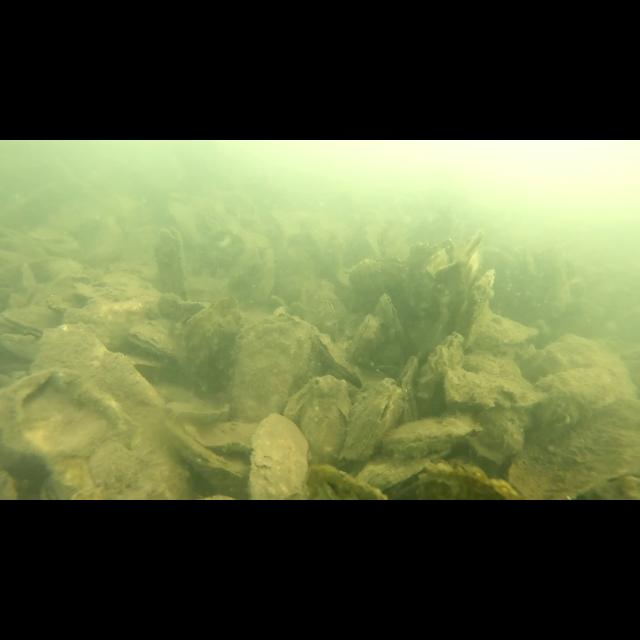Oyster-Closed: (0, 368, 154, 500), (34, 325, 166, 431), (508, 398, 640, 500), (227, 316, 311, 434), (180, 294, 242, 401), (286, 376, 352, 468), (165, 424, 248, 486), (532, 368, 618, 427), (250, 414, 308, 501), (382, 414, 482, 458), (350, 256, 410, 320), (472, 408, 524, 466), (356, 454, 436, 490), (375, 292, 409, 356), (184, 424, 256, 452), (0, 305, 62, 337), (351, 310, 382, 362), (321, 300, 342, 342)
Oyster-Open: (338, 378, 404, 464), (460, 250, 496, 352), (419, 332, 465, 400), (153, 226, 189, 300), (316, 334, 362, 384), (126, 321, 174, 359), (397, 353, 421, 419)
